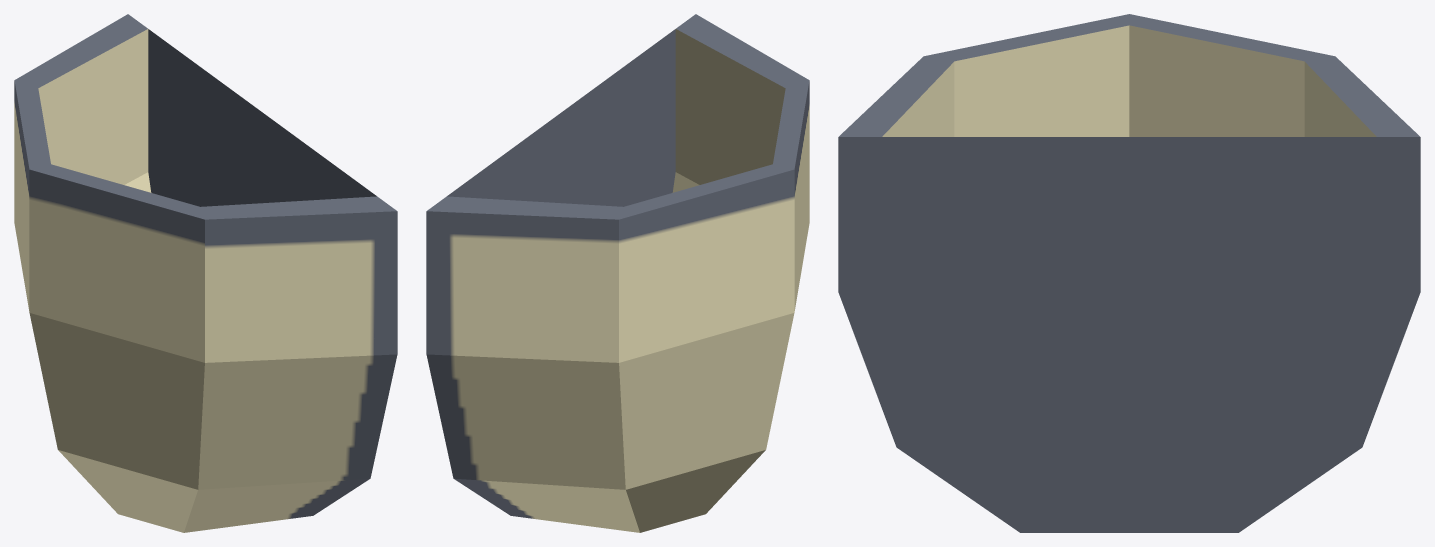
Rendered from Wall Lamp.fbx.
3 views of the same model, side by side, from view 1: azimuth 30°, elevation 25°; view 2: azimuth 150°, elevation 25°; view 3: azimuth 270°, elevation 25° (orthographic). The views are drawn at different scales.
Visible parts, largest first — view 1: Wall Lamp; view 2: Wall Lamp; view 3: Wall Lamp.
Boxes of the visible parts, x1,y1,x2,y2 form: Wall Lamp: (14, 14, 397, 532); Wall Lamp: (426, 14, 809, 532); Wall Lamp: (838, 14, 1420, 532).
Bounding box in the file's own units: 25 × 37.5 × 50.
